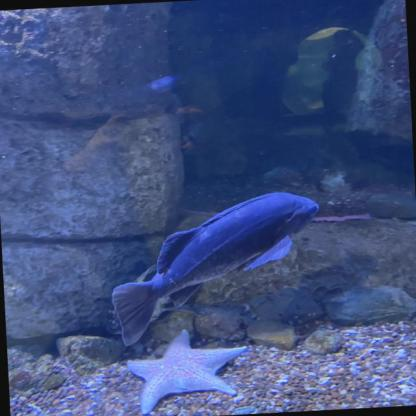fish: (107, 190, 325, 347)
starfish: (124, 326, 250, 416)
